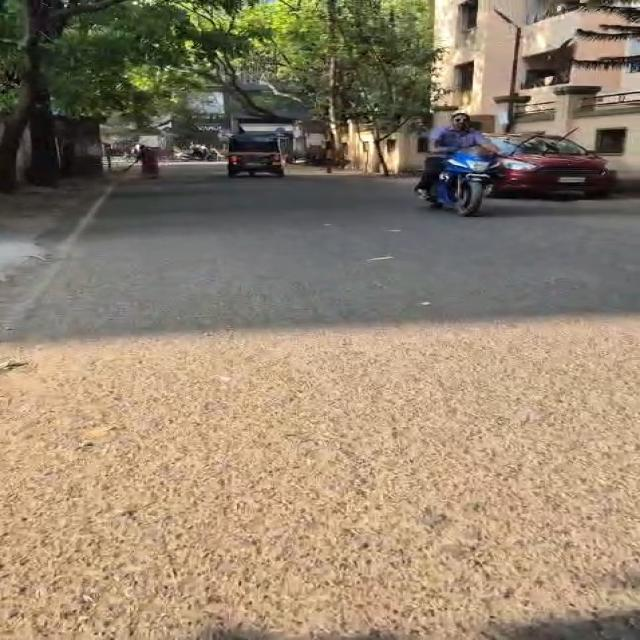obstacle: (0, 0, 241, 191), (231, 0, 439, 172), (0, 0, 124, 191), (341, 0, 440, 174), (495, 9, 522, 132), (576, 0, 639, 42), (505, 25, 522, 132)
vehical: (488, 135, 615, 197), (428, 147, 500, 216), (228, 134, 283, 177)
